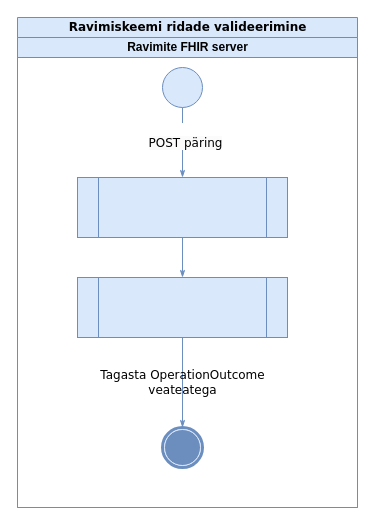
Some shapes in this 375 by 525 pixel diagram are drawn without their labels. The box of each missing label's shape, as (x1, y1, x2, y2) in pixels:
MedIN Andmekvaliteedi kontrollid: (76, 176, 288, 238)
Retseptikeskuse validatsioon: (76, 276, 288, 338)
